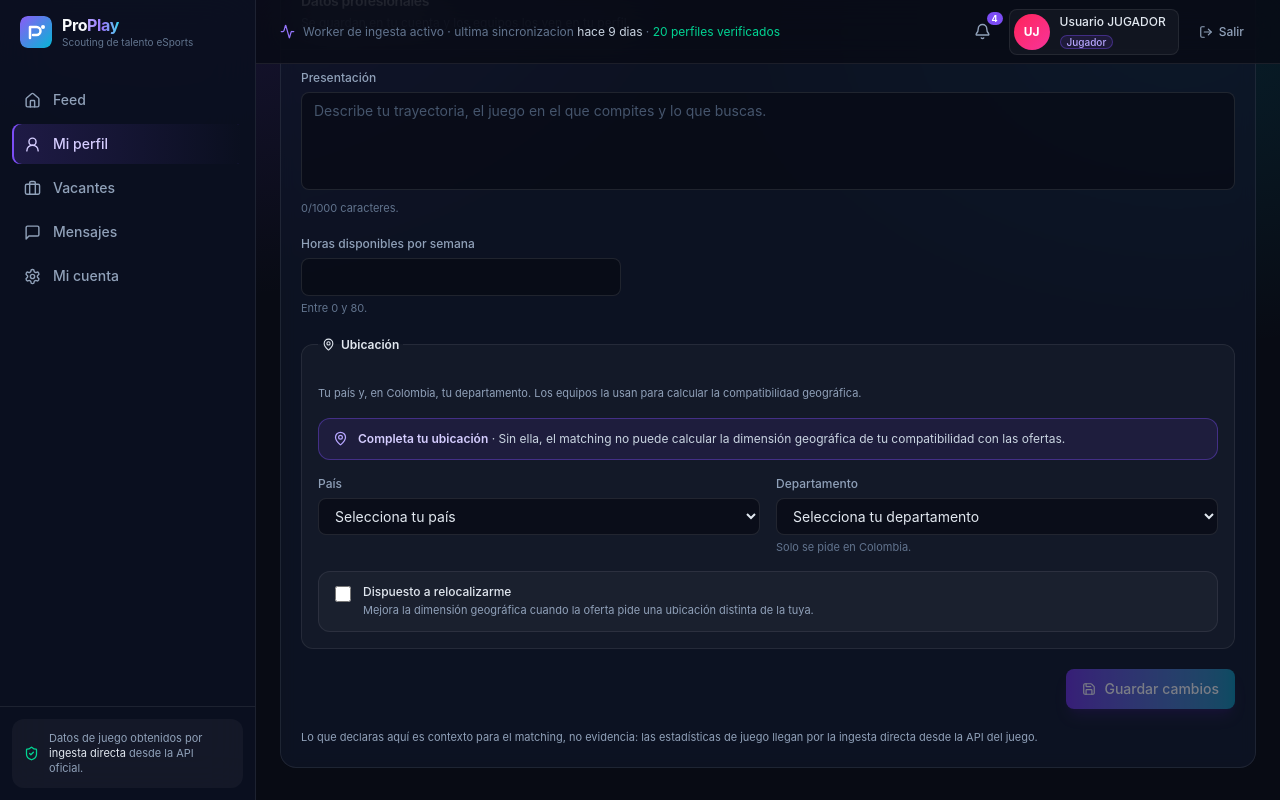
Mi perfil › lleva a su campo el error de validación de la API
(page scrolled)
Select "Colombia" in the dropdown labelled "País" at (539, 516), box x1=318 y1=498 x2=760 y2=535
(page scrolled)
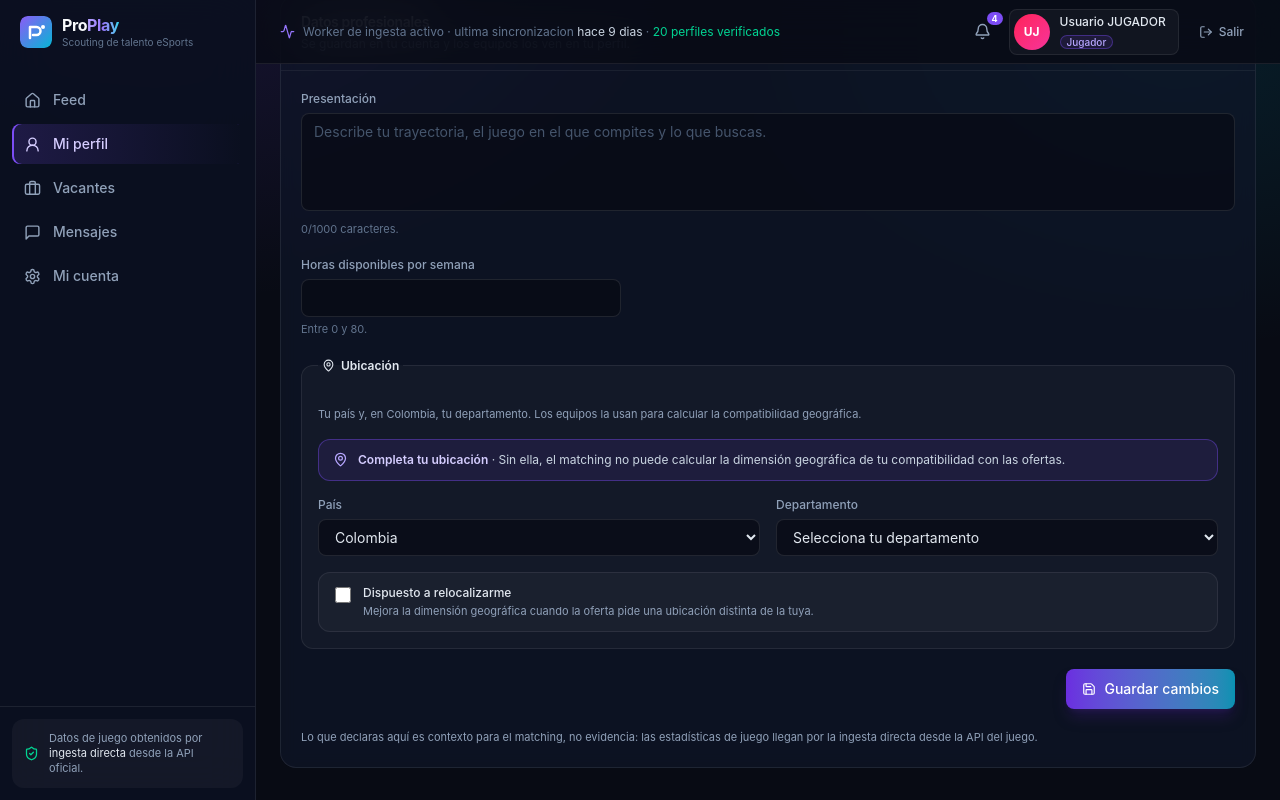
Select "Sucre" in the dropdown labelled "Departamento" at (997, 537), box x1=776 y1=519 x2=1218 y2=556
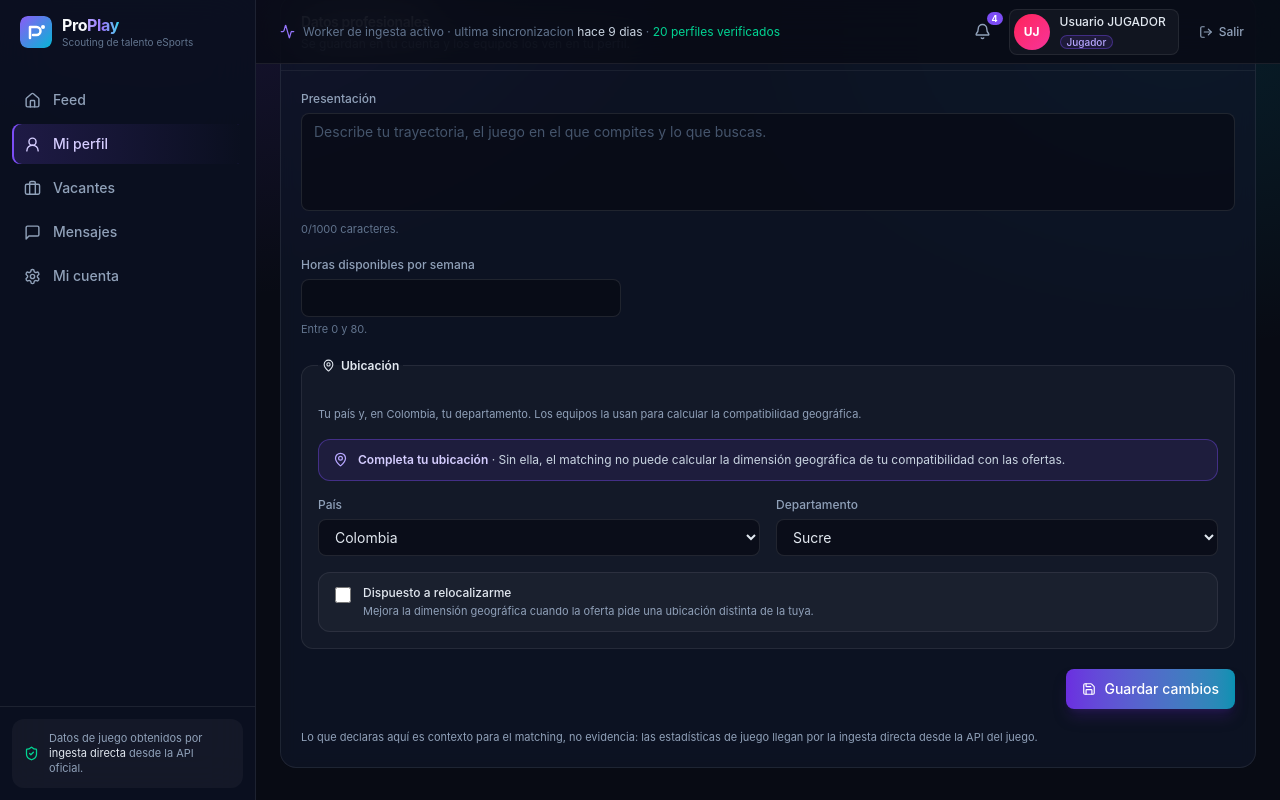
Click the button "Guardar cambios".
click(1151, 689)  # box x1=1066 y1=669 x2=1235 y2=709
(page scrolled)
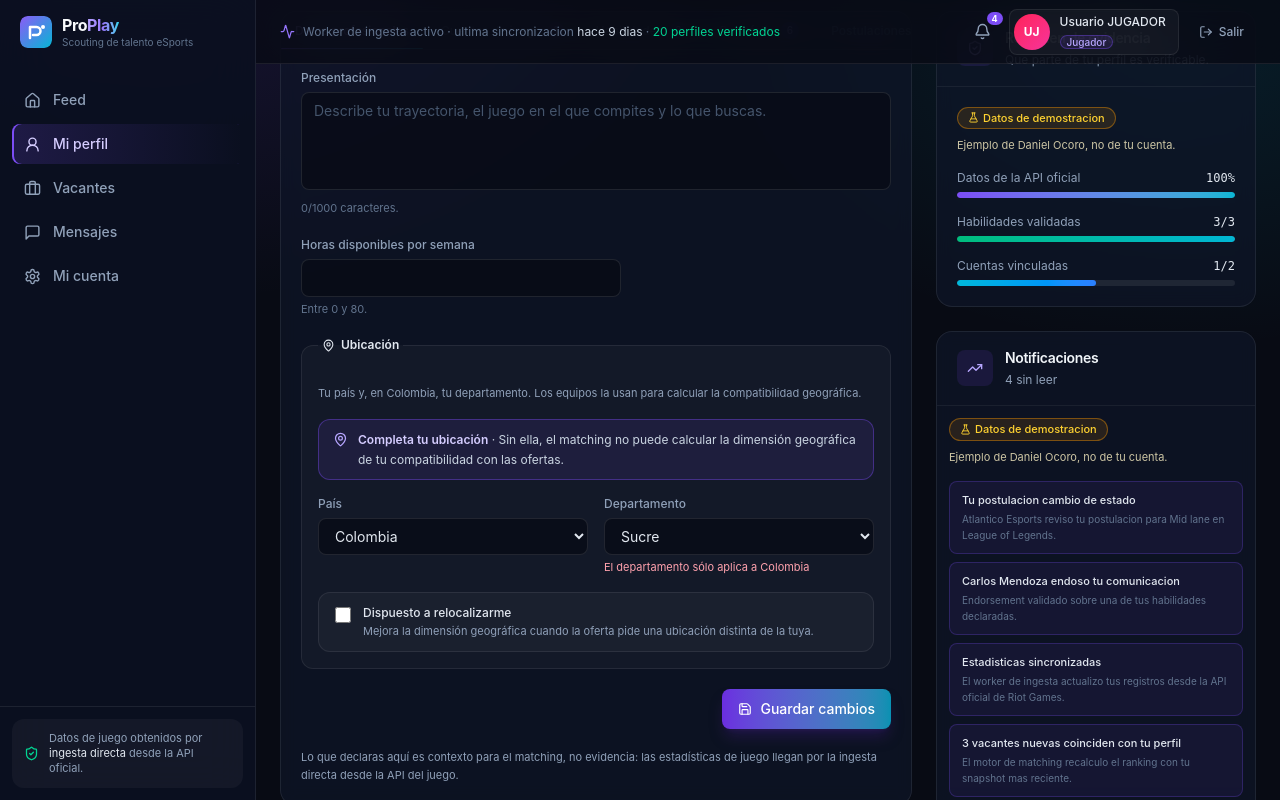
Check: the text "El departamento sólo aplica a Colombia" is shown, box x1=604 y1=560 x2=810 y2=574
